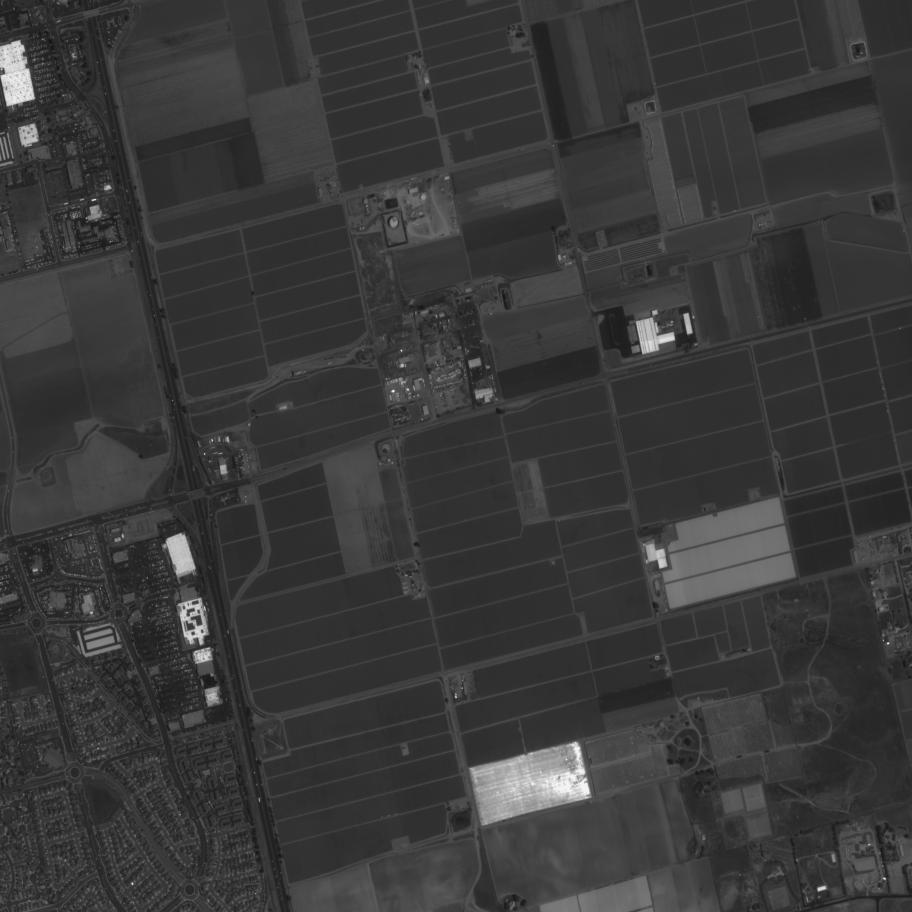storage-tank: (389, 216, 399, 228), (420, 194, 426, 200), (363, 199, 369, 204), (365, 204, 369, 208), (359, 227, 362, 231), (362, 226, 365, 230), (366, 208, 369, 211), (248, 423, 251, 426)
